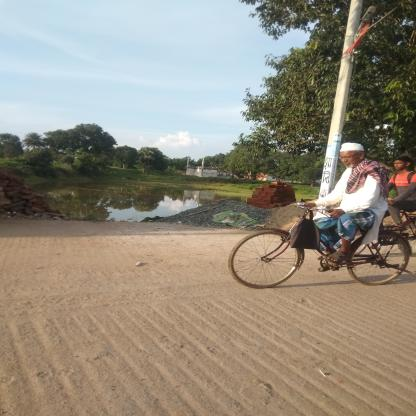bike: (212, 194, 411, 303)
